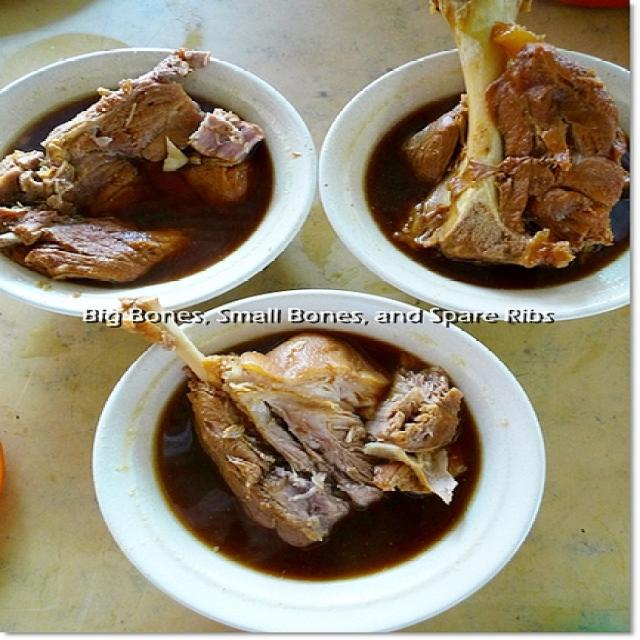汤锅炖物: (86, 314, 530, 594)
